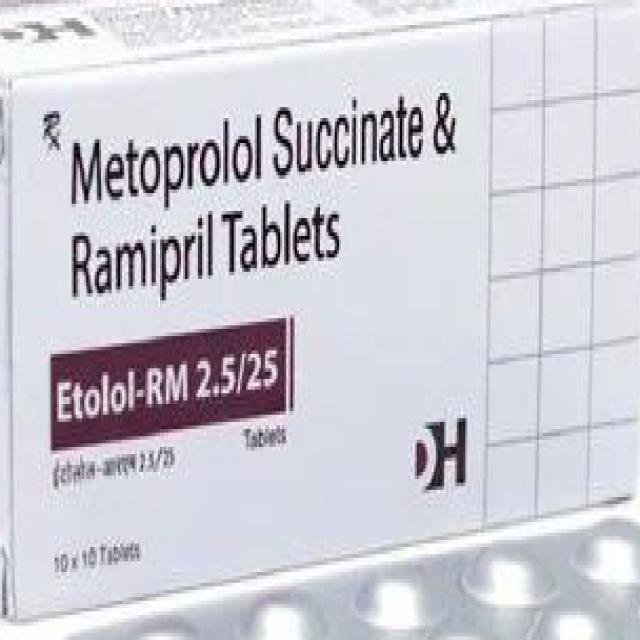drug-name: (55, 348, 280, 425)
